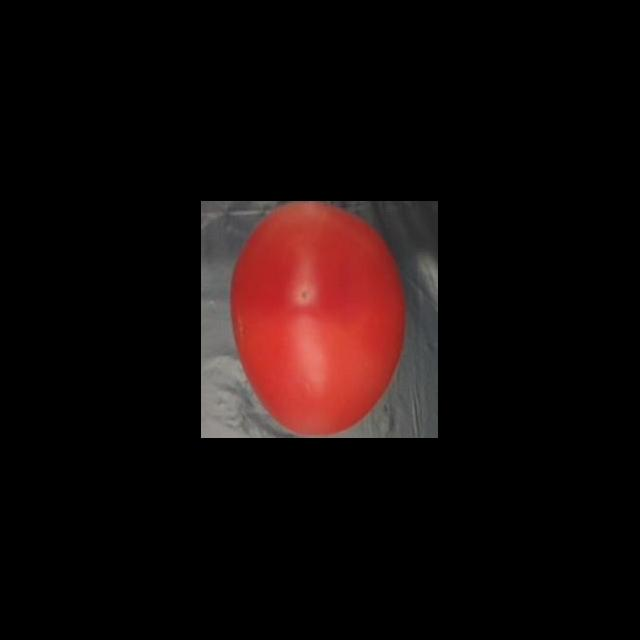tomato: (228, 204, 410, 438)
